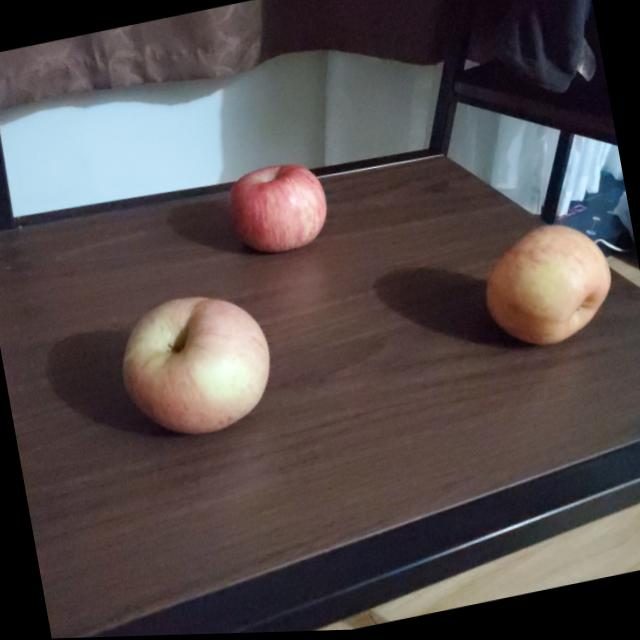apple: (114, 280, 284, 447), (478, 217, 624, 358), (221, 157, 331, 260)
